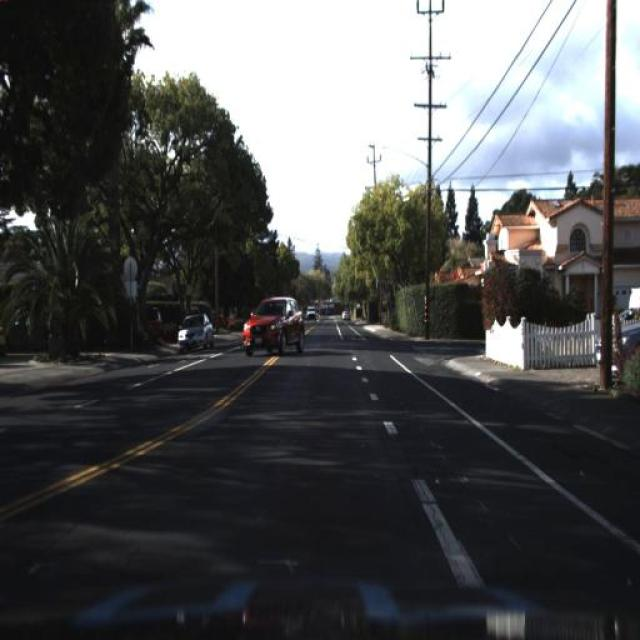car: (237, 292, 307, 359), (174, 308, 215, 357)
